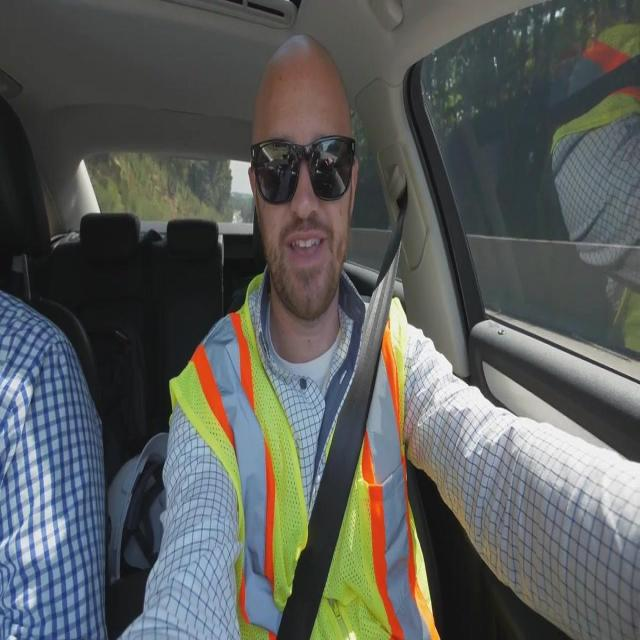Vest: (167, 275, 442, 639), (549, 21, 639, 351)
